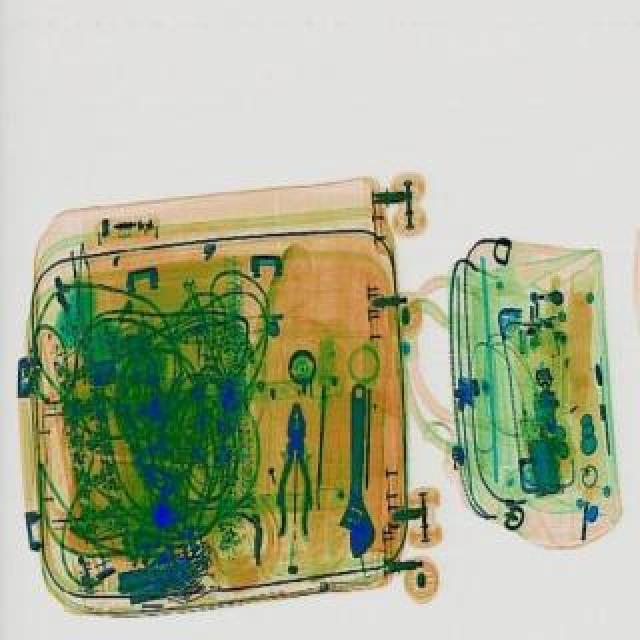scissors: (336, 380, 376, 556)
wrench: (274, 400, 314, 534)
